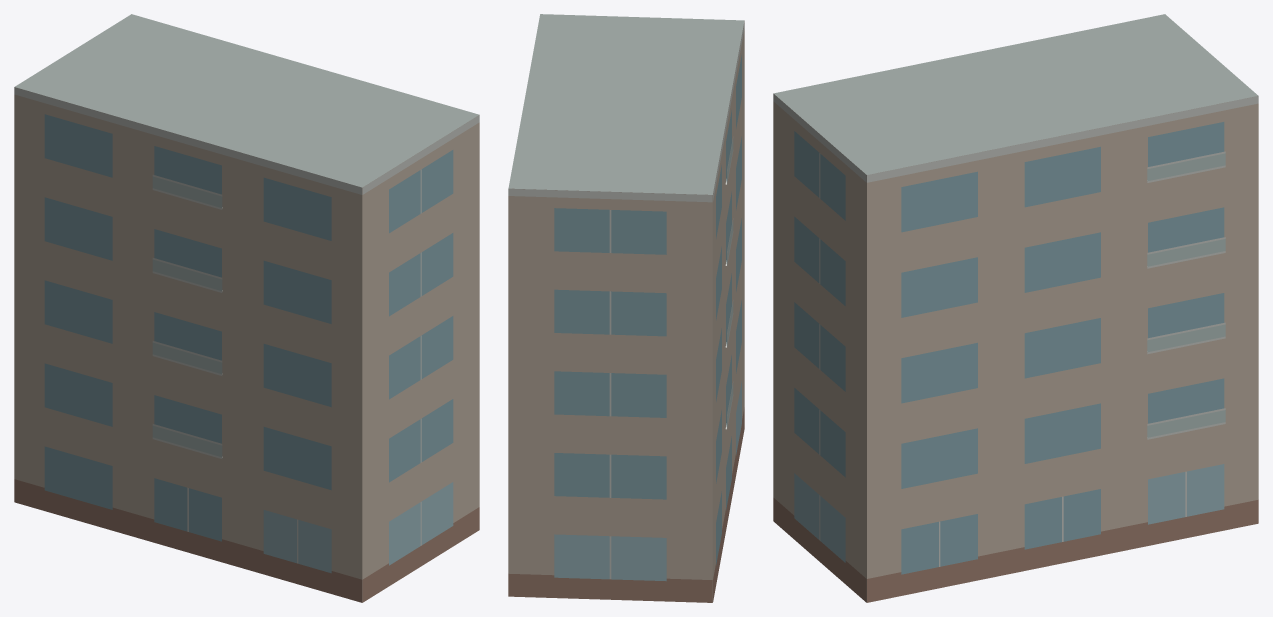
The model's file is survey-upis-32928018.glb.
The picture shows the model from 3 angles, left to right: view 1: azimuth 30°, elevation 25°; view 2: azimuth 150°, elevation 25°; view 3: azimuth 270°, elevation 25°; orthographic projection. The views are drawn at different scales.
Visible parts, largest first — view 1: survey-upis-32928018.tmp; view 2: survey-upis-32928018.tmp; view 3: survey-upis-32928018.tmp.
Boxes of the visible parts, box(x1,y1,x2,y2) form: survey-upis-32928018.tmp: box(14, 14, 479, 602); survey-upis-32928018.tmp: box(508, 14, 744, 602); survey-upis-32928018.tmp: box(773, 14, 1258, 602).
Size of the model in its own units: 10.91 by 13.5 by 13.89.
